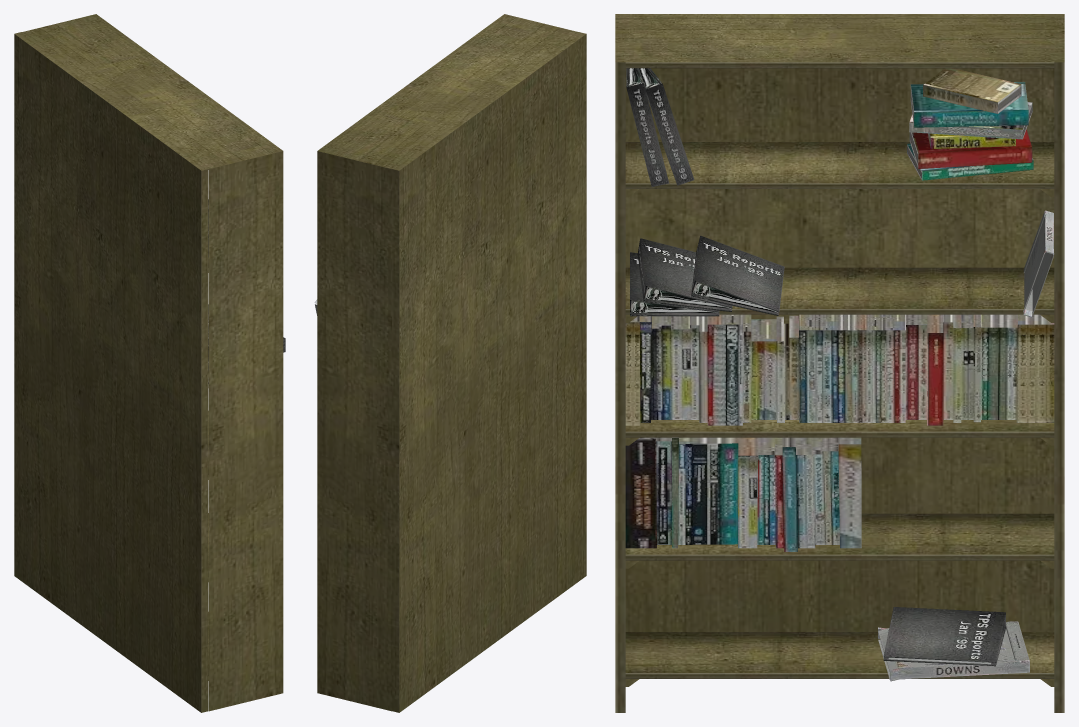
The model's file is Bookshelf3.glb.
3 views of the same model, side by side, from view 1: azimuth 30°, elevation 25°; view 2: azimuth 150°, elevation 25°; view 3: azimuth 270°, elevation 25° (orthographic). The views are drawn at different scales.
Parts seen in each view (by area): view 1: 0_Bookshelf1; view 2: 0_Bookshelf1; view 3: 0_Bookshelf1.
Boxes of the visible parts, x1,y1,x2,y2 form: 0_Bookshelf1: [14, 14, 285, 712]; 0_Bookshelf1: [314, 14, 586, 712]; 0_Bookshelf1: [615, 14, 1064, 712].
Size of the model in its own units: 0.3889 by 2.14 by 1.34.
Materials: 1 (1 with a texture image).
